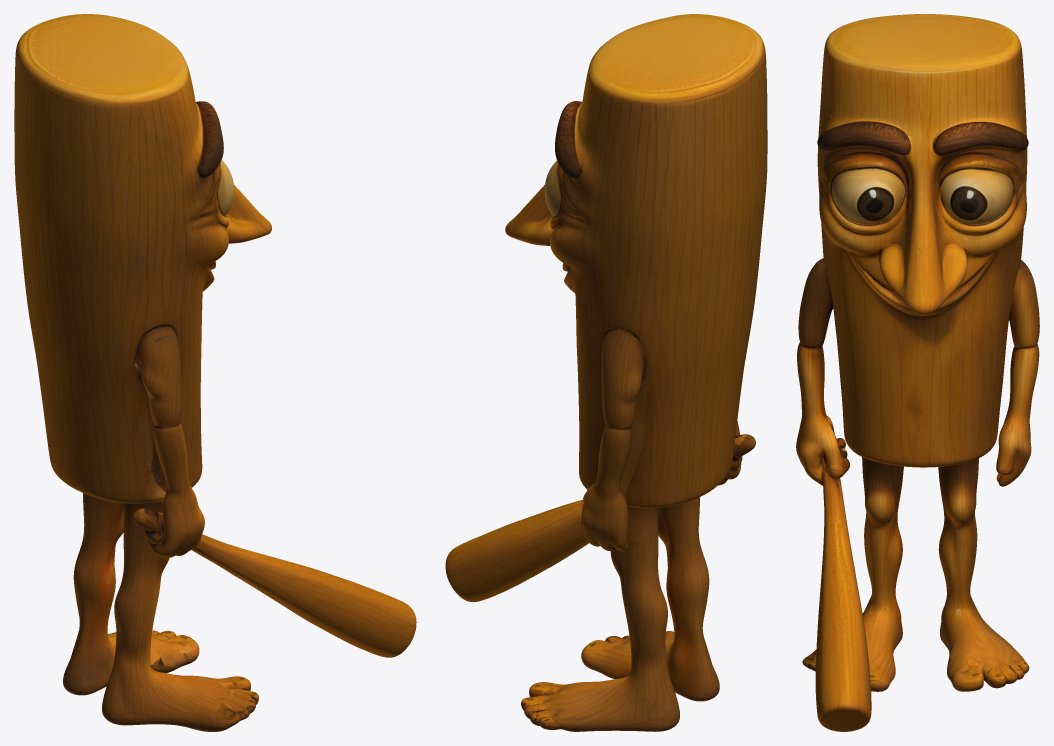
Rendered from 木棍入.fbx.
The picture shows the model from 3 angles, left to right: view 1: azimuth 30°, elevation 25°; view 2: azimuth 150°, elevation 25°; view 3: azimuth 270°, elevation 25°; orthographic projection. The views are drawn at different scales.
Parts seen in each view (by area): view 1: tripo_part_10, tripo_part_8, tripo_part_1, tripo_part_0, tripo_part_4, tripo_part_6, tripo_part_12, tripo_part_2, tripo_part_14, tripo_part_11, tripo_part_3; view 2: tripo_part_10, tripo_part_8, tripo_part_1, tripo_part_17, tripo_part_14, tripo_part_12, tripo_part_16, tripo_part_6, tripo_part_4, tripo_part_11, tripo_part_15, tripo_part_0 (+1 smaller); view 3: tripo_part_10, tripo_part_8, tripo_part_1, tripo_part_16, tripo_part_2, tripo_part_0, tripo_part_11, tripo_part_17, tripo_part_14, tripo_part_6, tripo_part_12, tripo_part_7 (+4 smaller).
Part boxes in pixels (<box>): tripo_part_10: <box>14,53,205,503</box>; tripo_part_8: <box>17,14,201,178</box>; tripo_part_1: <box>191,534,416,657</box>; tripo_part_0: <box>132,325,204,557</box>; tripo_part_4: <box>102,670,258,731</box>; tripo_part_6: <box>109,500,169,683</box>; tripo_part_12: <box>71,493,123,687</box>; tripo_part_2: <box>166,146,234,270</box>; tripo_part_14: <box>63,572,199,695</box>; tripo_part_11: <box>226,185,271,243</box>; tripo_part_3: <box>195,101,223,177</box>; tripo_part_10: <box>570,57,767,508</box>; tripo_part_8: <box>574,14,766,176</box>; tripo_part_1: <box>445,499,588,602</box>; tripo_part_17: <box>580,328,645,551</box>; tripo_part_14: <box>521,664,679,731</box>; tripo_part_12: <box>610,506,677,702</box>; tripo_part_16: <box>544,140,618,274</box>; tripo_part_6: <box>658,497,709,679</box>; tripo_part_4: <box>581,631,719,701</box>; tripo_part_11: <box>505,185,552,245</box>; tripo_part_15: <box>555,101,585,178</box>; tripo_part_0: <box>718,421,755,485</box>; tripo_part_10: <box>817,51,1027,467</box>; tripo_part_8: <box>819,14,1025,135</box>; tripo_part_1: <box>815,472,871,731</box>; tripo_part_16: <box>938,115,1027,257</box>; tripo_part_2: <box>818,116,905,256</box>; tripo_part_0: <box>796,258,849,485</box>; tripo_part_11: <box>879,177,973,314</box>; tripo_part_17: <box>996,260,1039,486</box>; tripo_part_14: <box>939,540,1029,691</box>; tripo_part_6: <box>862,457,903,614</box>; tripo_part_12: <box>938,458,978,613</box>; tripo_part_7: <box>886,121,951,245</box>.
Size of the model in its own units: 0.5319 by 1 by 0.3619.
18 materials, 18 textured.
